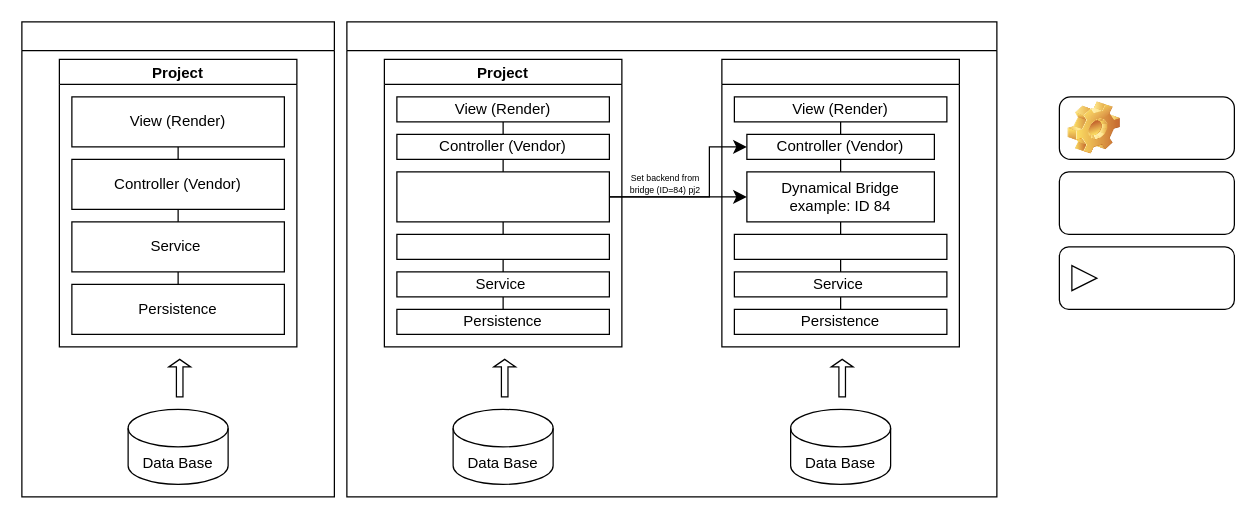
The diagram is 1256 pixels wide and 519 high, and some of its shapes have lost their labels. Each missing label, with the box of its shape:
.htaccess: (1058, 246, 1234, 309)
Containers: (1058, 171, 1234, 234)
Containers for (65, self): (733, 233, 947, 259)
Conteiners for (self): (396, 233, 609, 259)
Dynamic contained multi-level architecture: (346, 21, 997, 497)
Dynamical Bridge example: ID 65: (396, 171, 609, 222)
global: (1058, 96, 1234, 159)
Project 2: (721, 58, 959, 347)
Traditional multi-level architecture: (21, 21, 334, 497)
